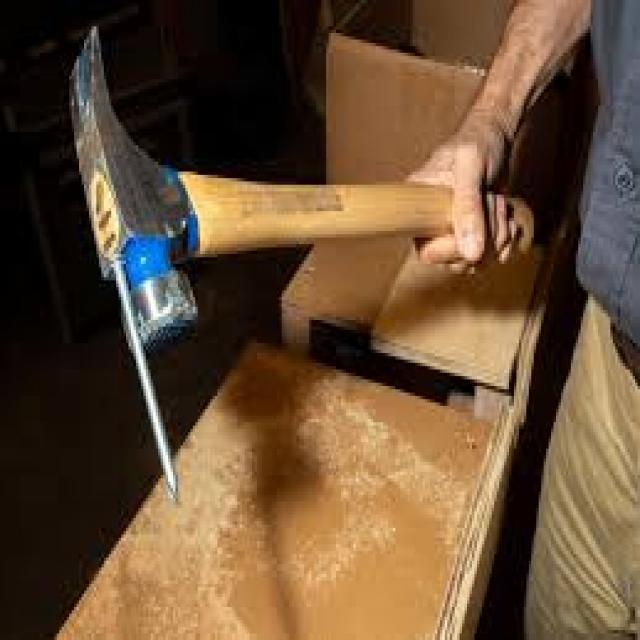hammer: (63, 19, 540, 357)
